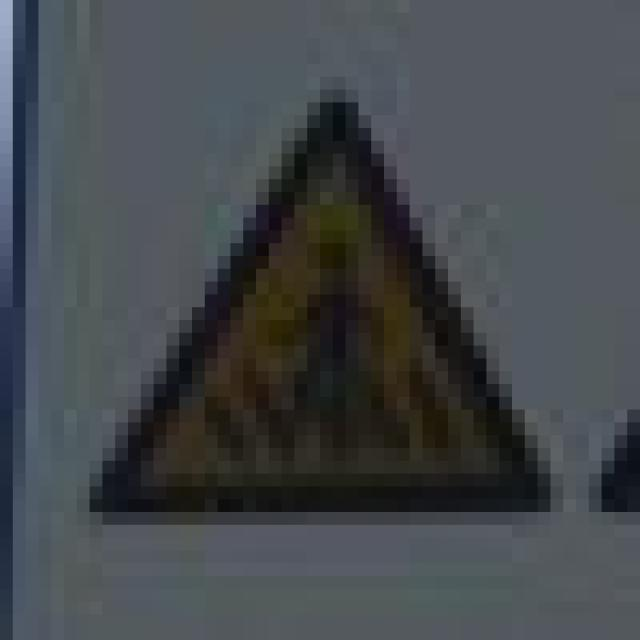pass_either_side: (64, 77, 563, 525)
